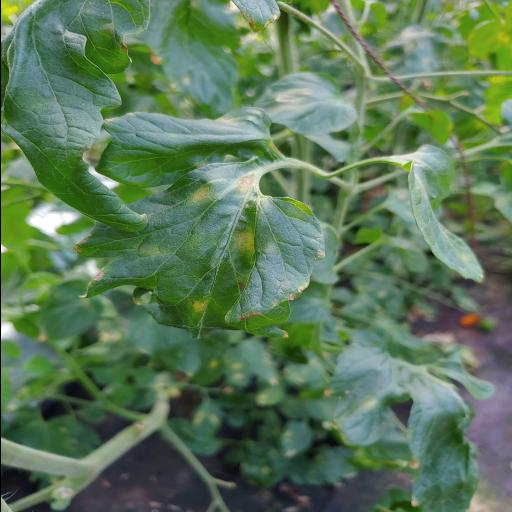disease_tomato: (75, 162, 325, 340)
